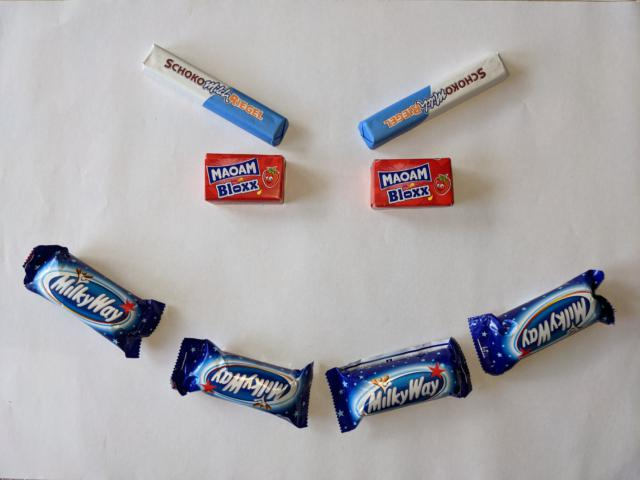MAOAM: (201, 149, 287, 209), (367, 155, 457, 210)
MilkyWay: (19, 242, 168, 362), (465, 267, 617, 378), (322, 336, 476, 436), (166, 334, 317, 431)
Schokoriegel: (137, 41, 292, 148), (354, 50, 512, 152)
